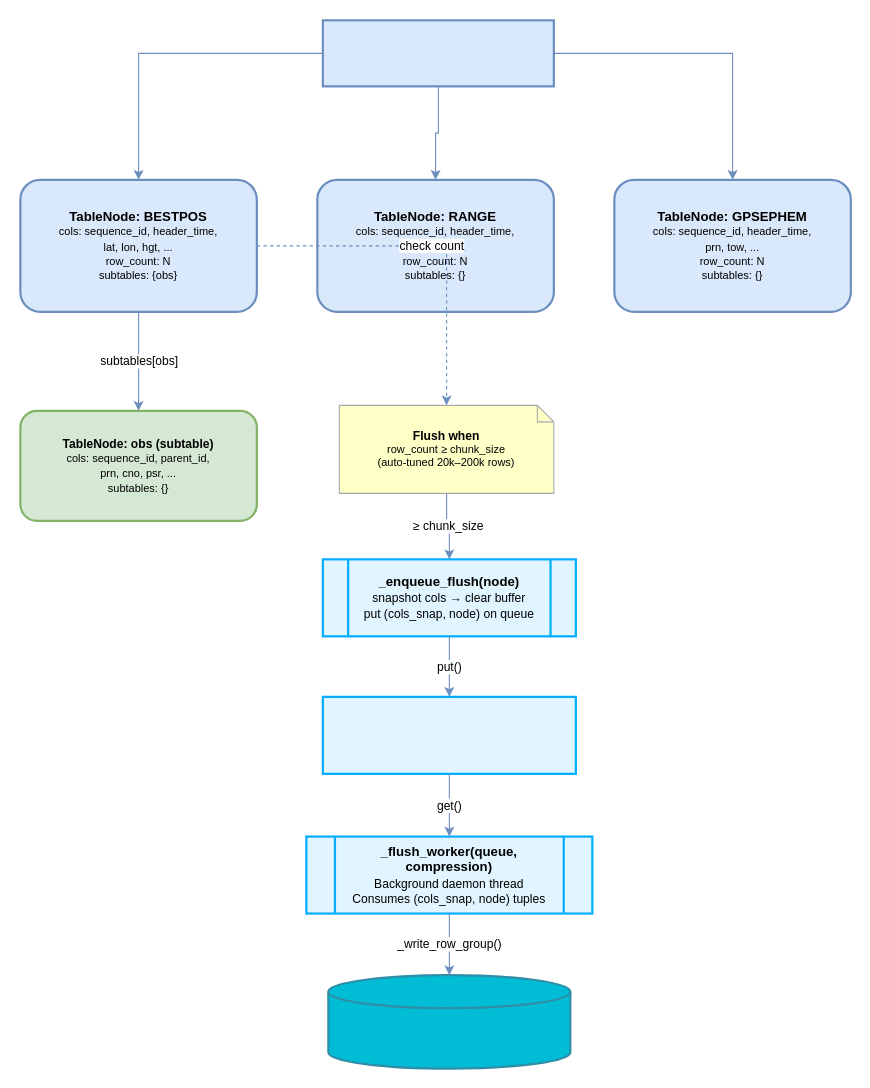
This 870x1088 diagram has some shape labels left out. The box of each missing label's shape, as (x1, y1, x2, y2) in pixels:
pq.ParquetWriter write_table(row_group) zstd compression: (327, 974, 571, 1069)
queue.Queue(maxsize=32) Backpressure: blocks main thread if disk is slow: (321, 695, 576, 774)
tables: dict Root accumulator: (321, 19, 554, 87)
